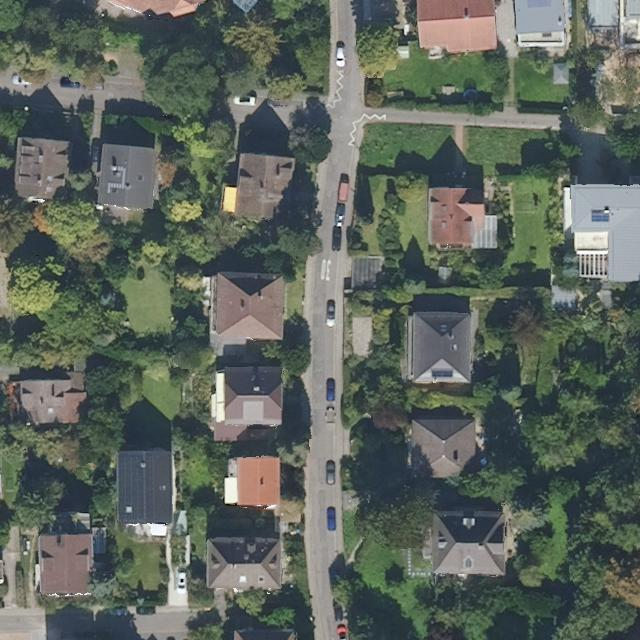PV: (115, 452, 145, 526)
